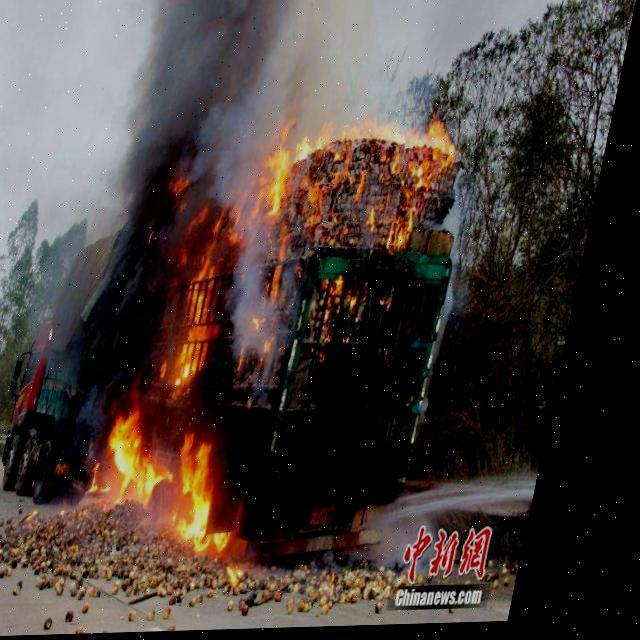Fire: (92, 113, 480, 556)
